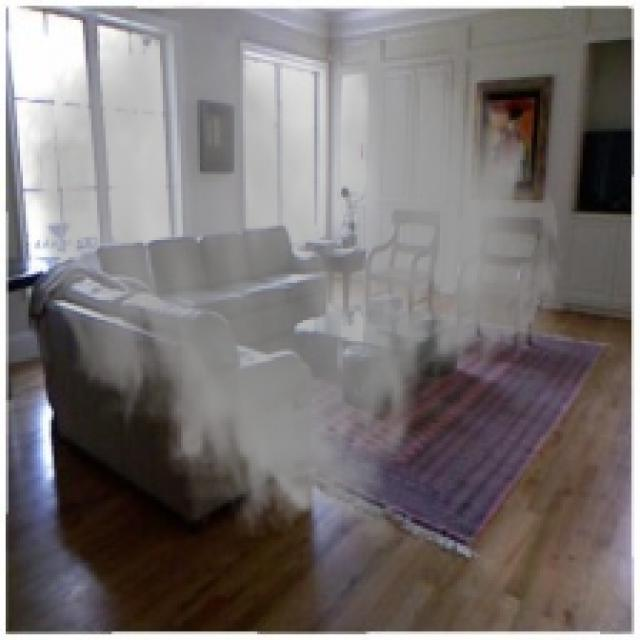smoke: (17, 0, 566, 552)
